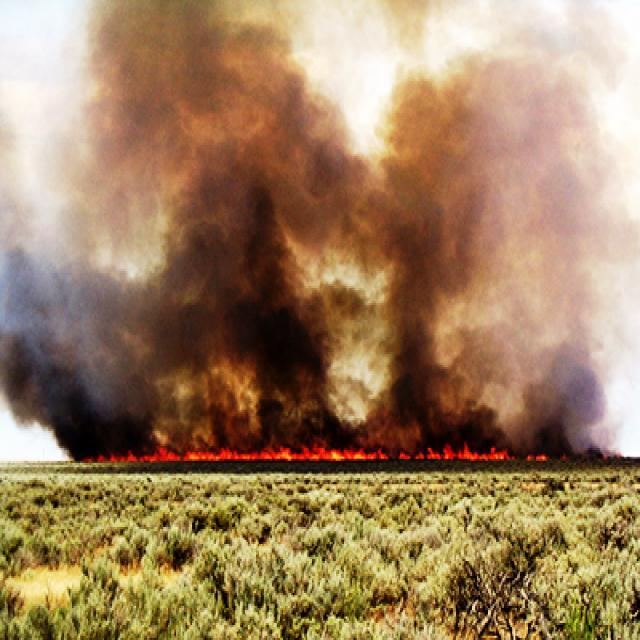api: (71, 442, 558, 465)
asap: (1, 1, 640, 458)
